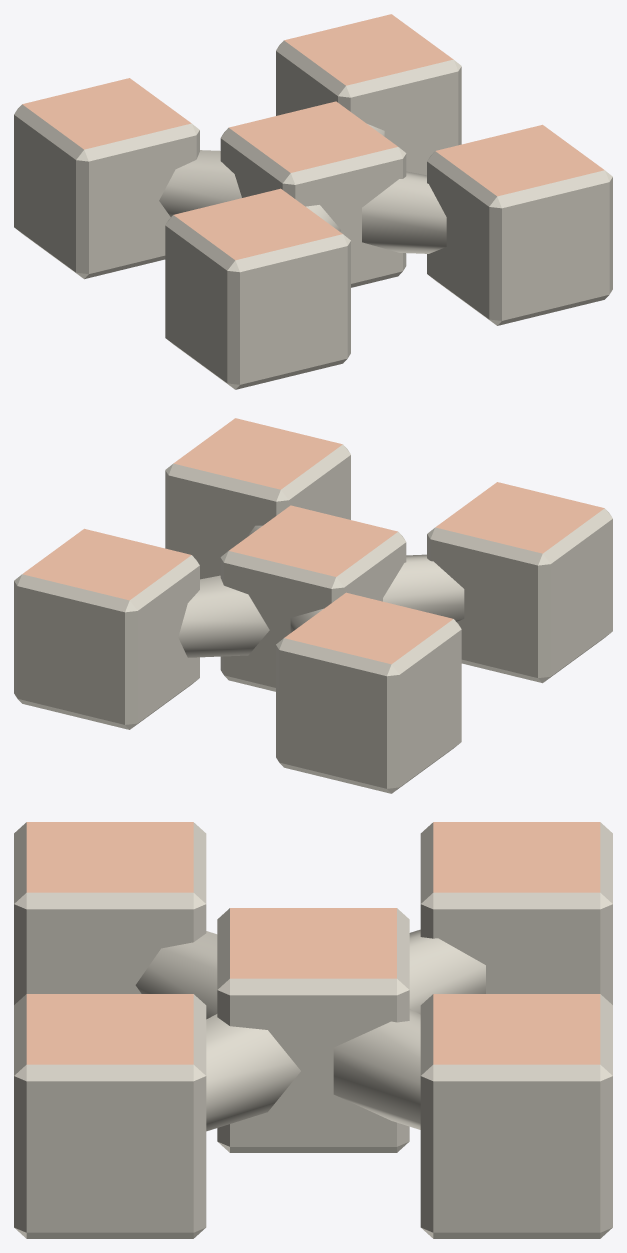
The model's file is R4C_STRUT_CROSS_LOD1.fbx.
3 renders of one model, top to bottom at view 1: azimuth 30°, elevation 25°; view 2: azimuth 150°, elevation 25°; view 3: azimuth 270°, elevation 25°, orthographic. The views are drawn at different scales.
Parts seen in each view (by area): view 1: R4C_STRUT_CROSS_LOD1; view 2: R4C_STRUT_CROSS_LOD1; view 3: R4C_STRUT_CROSS_LOD1.
Part boxes in pixels (x1=…): R4C_STRUT_CROSS_LOD1: x1=14, y1=14, x2=612, y2=389; R4C_STRUT_CROSS_LOD1: x1=14, y1=418, x2=612, y2=793; R4C_STRUT_CROSS_LOD1: x1=14, y1=822, x2=612, y2=1238.
Bounding box in the file's own units: 1.62 × 0.52 × 1.62.
